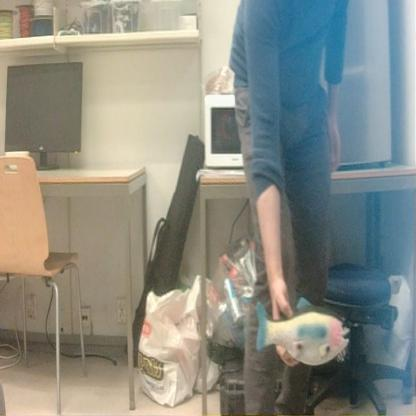rubberfish: (252, 294, 354, 372)
